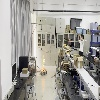fire: (41, 54, 45, 72)
